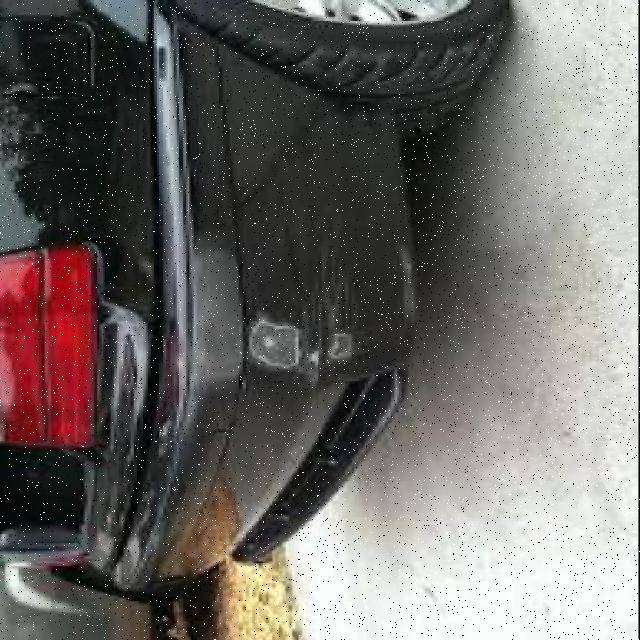damage: (240, 203, 366, 380)
